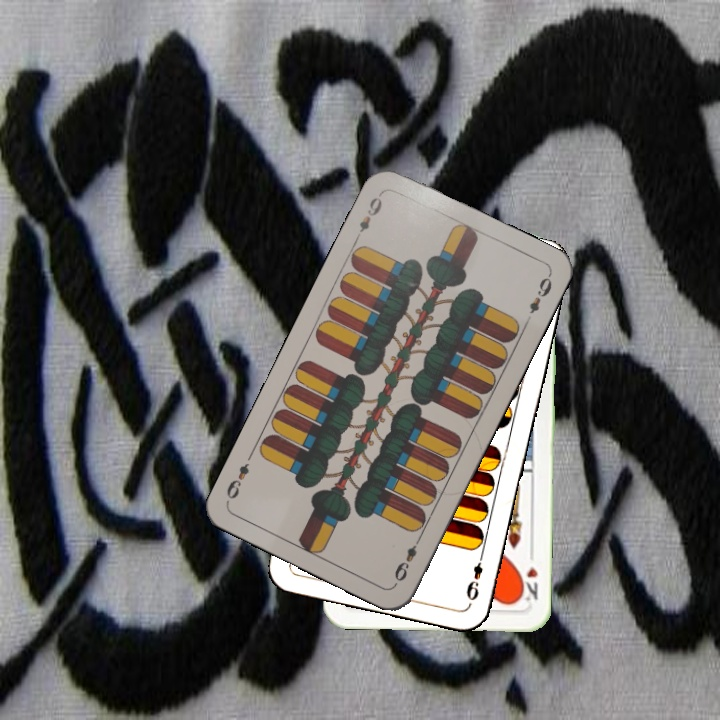E9: (351, 188, 385, 243), (390, 532, 424, 584), (462, 548, 487, 604)
HK: (516, 547, 541, 604)
